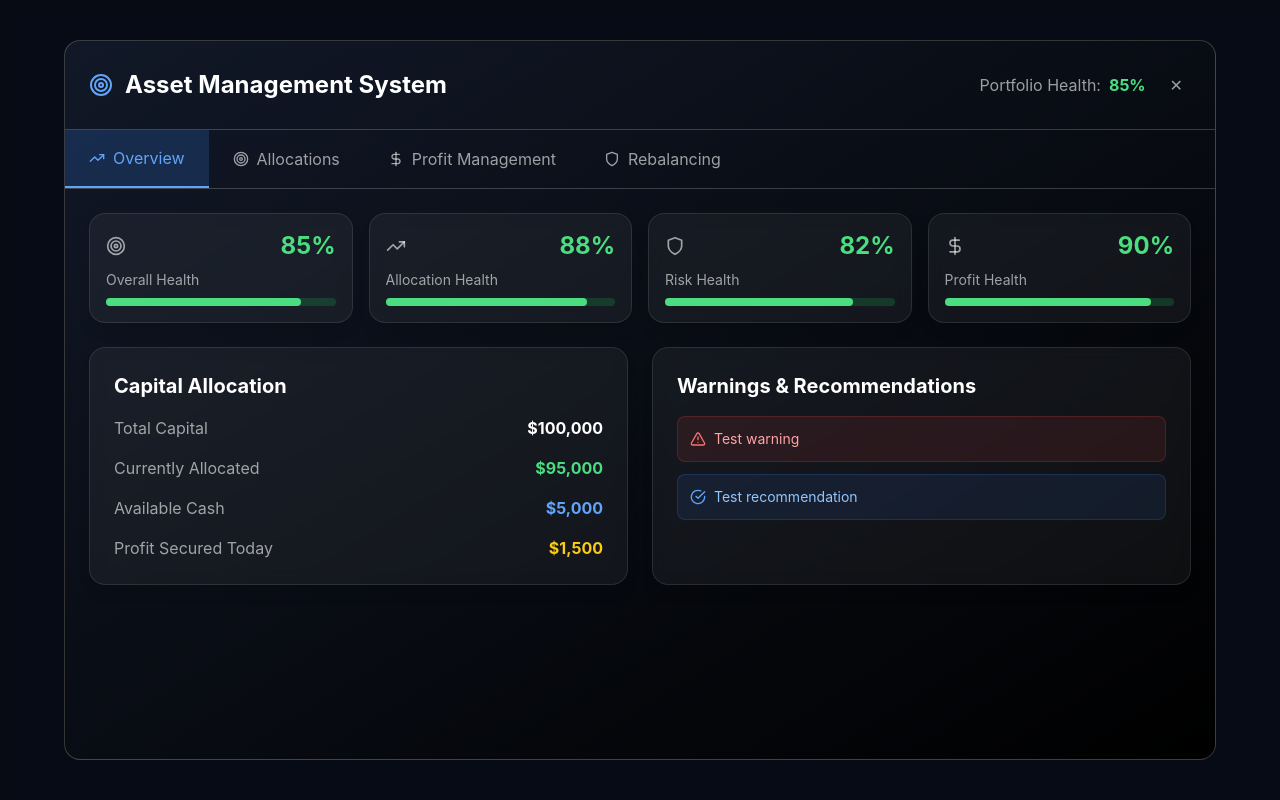
AssetManagerPanel › displays rebalancing suggestions
Click the button "Rebalancing" at (662, 159), box [580,130,745,188]
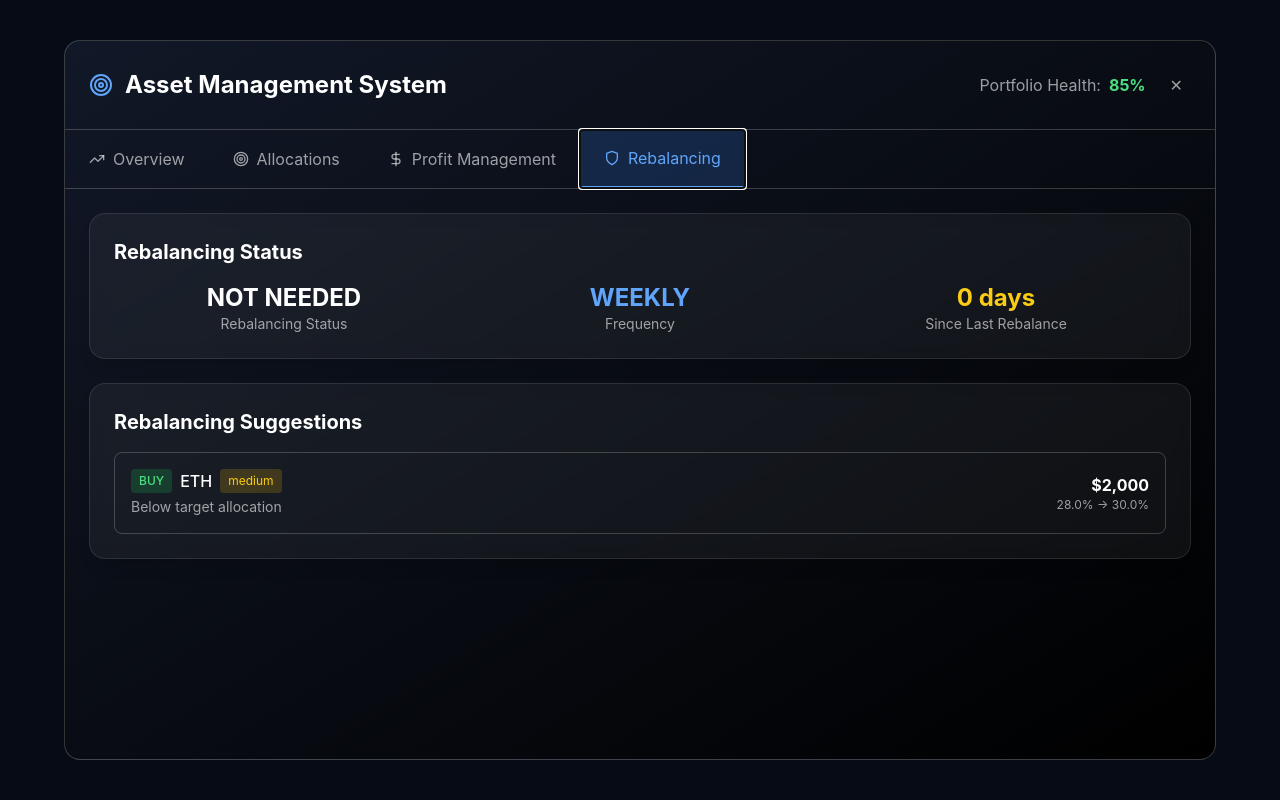
Expected: the text "ETH" is shown, [180,469,212,493]
Expected: the text "BUY" is shown, [131,469,172,493]
Expected: the text "Below target allocation" is shown, [131,497,282,517]
